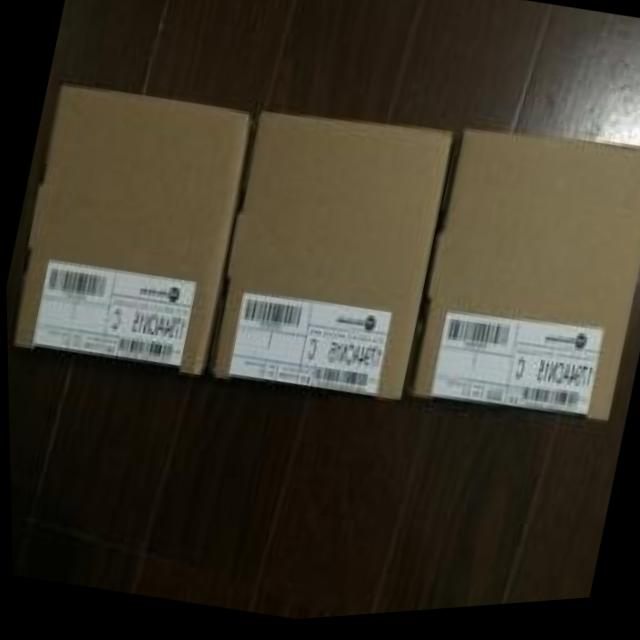box: (203, 112, 464, 406), (10, 86, 254, 375), (405, 135, 640, 430)
